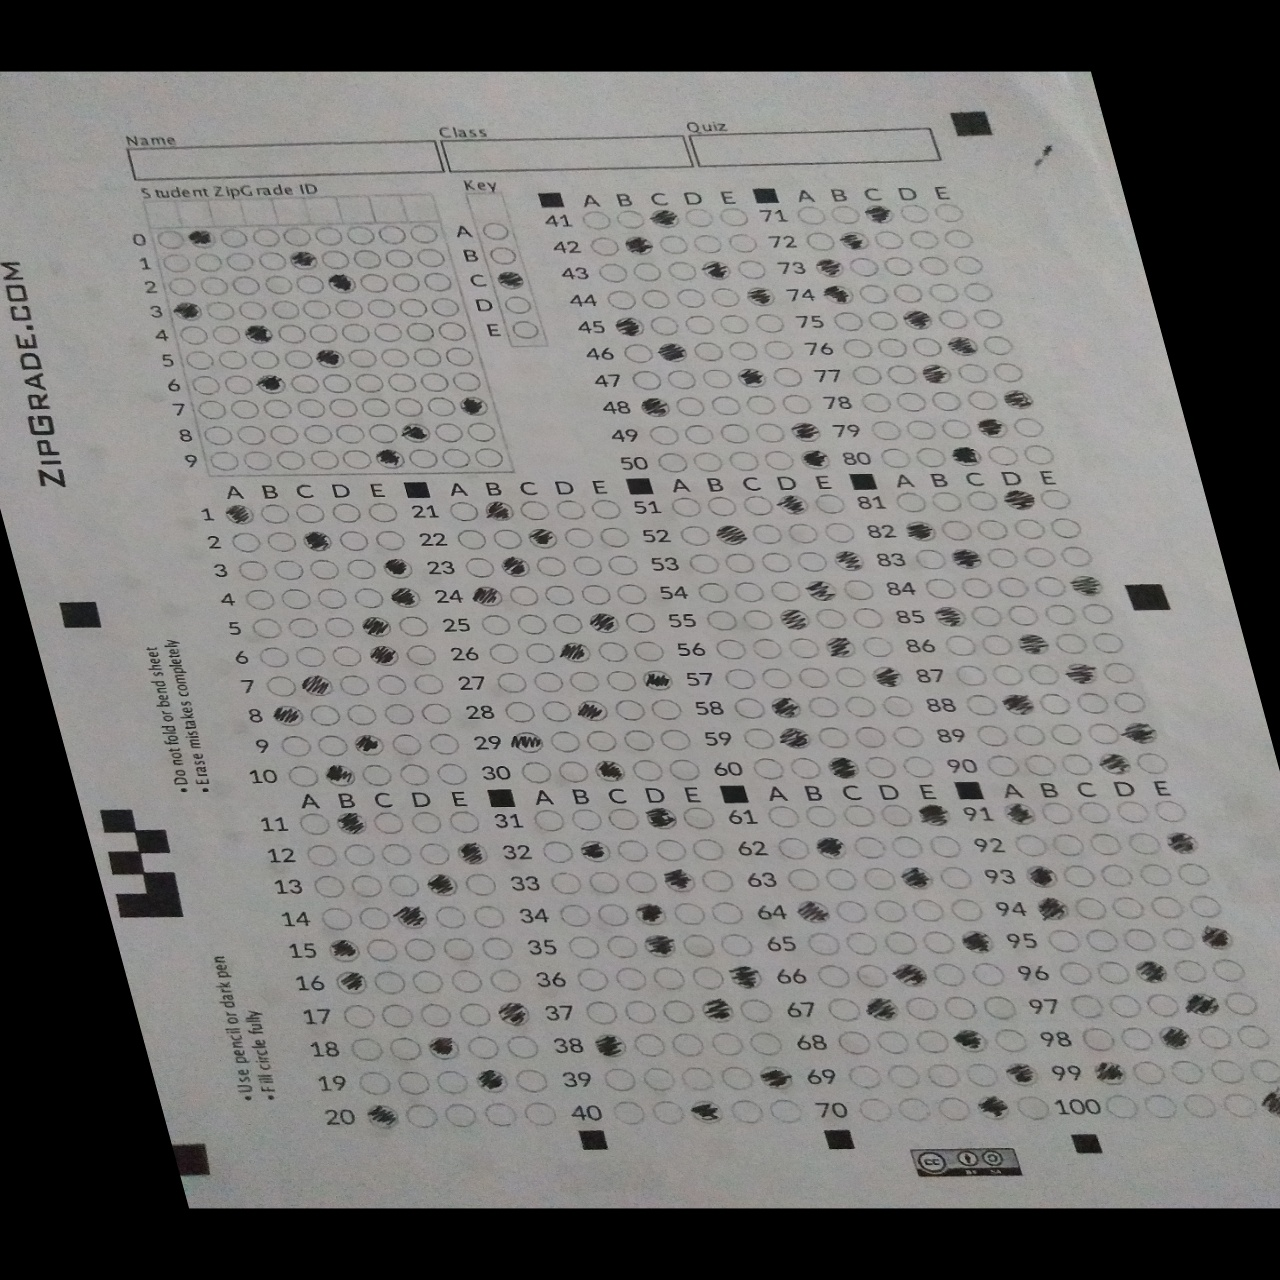not-c: (297, 842, 343, 867), (704, 1032, 751, 1057), (796, 931, 843, 956), (350, 906, 399, 931), (334, 1001, 382, 1026), (697, 871, 745, 896), (765, 838, 813, 863), (799, 806, 847, 831), (847, 964, 896, 988), (914, 576, 960, 601), (976, 754, 1022, 779), (334, 842, 380, 867), (734, 998, 779, 1023), (714, 1065, 760, 1091), (670, 903, 716, 928), (821, 998, 866, 1023), (349, 1070, 396, 1095), (343, 1036, 390, 1061), (425, 905, 472, 930), (644, 1099, 690, 1124), (765, 1098, 812, 1123), (685, 968, 731, 993), (676, 935, 723, 960), (651, 839, 697, 864), (678, 805, 724, 830), (838, 1063, 885, 1088), (825, 1029, 872, 1054), (778, 869, 825, 893), (907, 1028, 954, 1053), (837, 803, 884, 828), (879, 932, 926, 956), (821, 866, 867, 891), (829, 899, 876, 924), (835, 933, 881, 958), (867, 1030, 914, 1055), (361, 938, 406, 964), (551, 903, 595, 928), (527, 806, 572, 832), (1157, 926, 1201, 952), (1110, 801, 1155, 826), (1149, 801, 1193, 826), (954, 693, 1000, 717), (968, 723, 1014, 748), (1054, 753, 1099, 777), (1078, 721, 1124, 745), (313, 906, 359, 931), (293, 811, 339, 836), (413, 842, 458, 866), (400, 937, 445, 961), (380, 874, 425, 899), (373, 842, 418, 866), (366, 810, 411, 835), (508, 1068, 553, 1092), (444, 810, 490, 835), (743, 1032, 789, 1056), (723, 1099, 769, 1124), (716, 934, 762, 959), (709, 901, 755, 926), (692, 838, 737, 863), (877, 1063, 922, 1088), (809, 964, 855, 988), (763, 805, 809, 830), (927, 961, 973, 986), (938, 994, 983, 1019), (961, 1062, 1007, 1087), (900, 996, 946, 1021), (870, 900, 915, 925), (847, 835, 893, 859), (1167, 958, 1211, 983), (1192, 1022, 1235, 1048), (1203, 1058, 1246, 1084), (1107, 896, 1150, 921), (1133, 862, 1177, 887), (1173, 863, 1217, 888), (1223, 990, 1266, 1016), (1067, 692, 1114, 715), (411, 1003, 458, 1027), (921, 1064, 968, 1088), (935, 633, 980, 658), (1016, 753, 1061, 777), (440, 937, 484, 961), (597, 1068, 641, 1092), (606, 966, 651, 990), (647, 966, 692, 990), (653, 1000, 697, 1024), (666, 1033, 710, 1057), (636, 1065, 681, 1090), (628, 1033, 673, 1057), (565, 808, 610, 832), (604, 806, 648, 831), (1231, 1024, 1275, 1049), (1183, 896, 1227, 920), (1208, 958, 1251, 983), (904, 549, 949, 572), (944, 662, 989, 686), (305, 874, 350, 898), (399, 1105, 444, 1129), (366, 969, 411, 993), (459, 1036, 505, 1060), (428, 1071, 474, 1095), (406, 971, 451, 994), (570, 968, 615, 992), (607, 1103, 653, 1126), (499, 1035, 545, 1058), (485, 969, 531, 993), (475, 937, 520, 960), (618, 1001, 663, 1024), (536, 839, 581, 863), (857, 866, 903, 890), (404, 810, 448, 835), (676, 1067, 720, 1091), (1096, 865, 1139, 890), (1165, 1061, 1208, 1085), (1141, 993, 1184, 1017), (1146, 896, 1190, 920), (885, 491, 930, 515), (708, 636, 753, 660), (394, 763, 438, 787), (340, 556, 384, 579), (563, 668, 607, 692), (515, 640, 559, 663), (508, 612, 552, 635), (568, 556, 613, 579), (342, 874, 387, 898), (613, 840, 658, 864), (392, 1073, 436, 1096), (383, 1036, 428, 1060), (377, 1002, 422, 1026), (445, 969, 490, 993), (449, 1003, 493, 1027), (437, 1104, 482, 1128), (559, 937, 604, 960), (578, 1001, 622, 1024), (519, 1103, 564, 1126), (457, 873, 502, 897), (621, 872, 666, 896), (598, 935, 642, 959), (590, 903, 634, 926), (580, 873, 625, 897), (545, 874, 590, 898), (1123, 930, 1167, 953), (1122, 835, 1166, 858), (546, 612, 588, 636), (781, 636, 824, 660), (702, 496, 745, 519), (784, 755, 828, 778), (717, 667, 761, 690), (784, 523, 828, 546), (860, 756, 904, 779), (332, 527, 375, 551), (368, 501, 411, 524), (327, 645, 370, 668), (290, 501, 333, 524), (237, 588, 280, 612), (513, 761, 557, 784), (607, 556, 651, 579), (559, 525, 602, 549), (617, 727, 660, 750), (540, 584, 584, 607), (530, 556, 573, 579), (479, 1103, 523, 1126), (888, 835, 930, 859), (922, 836, 964, 860), (1220, 1094, 1261, 1118), (932, 1096, 973, 1121), (1179, 1094, 1220, 1118), (1141, 1095, 1182, 1119), (1099, 1095, 1141, 1119), (1012, 1095, 1053, 1119), (1037, 802, 1078, 826), (1074, 802, 1115, 826), (1116, 1026, 1157, 1050), (1070, 897, 1111, 921), (1040, 602, 1084, 625), (985, 662, 1029, 685), (953, 576, 998, 598), (971, 519, 1015, 542), (747, 524, 791, 546), (719, 552, 763, 574), (733, 726, 777, 748), (680, 553, 724, 576), (790, 551, 835, 573), (858, 636, 903, 659), (304, 703, 348, 726), (279, 764, 324, 787), (629, 641, 674, 663), (597, 526, 641, 549), (653, 728, 697, 750), (724, 699, 767, 722), (662, 493, 704, 517), (840, 695, 883, 719), (900, 755, 942, 778), (356, 763, 399, 787), (240, 617, 282, 640), (946, 898, 986, 922), (1080, 1027, 1119, 1051), (1067, 993, 1107, 1017), (1131, 1061, 1171, 1085), (470, 904, 508, 930), (818, 524, 862, 546), (983, 546, 1027, 568), (1005, 604, 1048, 626), (1049, 629, 1092, 652), (1046, 723, 1089, 745), (966, 604, 1009, 626), (934, 519, 978, 542), (812, 726, 856, 748), (794, 666, 837, 688), (754, 667, 797, 689), (692, 580, 735, 602), (830, 666, 873, 688), (877, 694, 920, 716), (850, 726, 893, 748), (424, 734, 468, 756), (350, 587, 394, 610), (328, 503, 372, 525), (343, 704, 387, 727), (312, 588, 355, 611), (306, 558, 349, 580), (275, 588, 319, 611), (271, 559, 314, 581), (251, 505, 294, 527), (282, 619, 326, 641), (312, 736, 355, 758), (274, 736, 318, 758), (252, 647, 295, 669), (222, 532, 265, 554), (552, 761, 595, 783), (542, 730, 585, 753), (503, 585, 546, 607), (584, 499, 627, 522), (497, 699, 540, 721), (488, 672, 531, 694), (452, 556, 496, 578), (440, 501, 483, 523), (486, 527, 530, 550), (621, 612, 665, 634), (577, 586, 620, 608), (668, 761, 712, 783), (627, 760, 670, 782), (908, 899, 949, 922), (919, 931, 960, 954), (935, 866, 976, 890), (894, 1098, 935, 1122), (852, 1097, 893, 1121), (1043, 930, 1084, 953), (1104, 994, 1145, 1017), (1092, 961, 1133, 985), (1083, 930, 1124, 953), (1057, 864, 1098, 887), (847, 607, 890, 629), (840, 580, 883, 602), (808, 493, 850, 516), (1024, 663, 1067, 686), (1034, 692, 1076, 714), (1008, 724, 1050, 747), (975, 634, 1017, 656), (990, 576, 1035, 597), (810, 608, 855, 629), (764, 580, 806, 602), (757, 550, 799, 572), (738, 493, 781, 516), (737, 610, 779, 632), (745, 636, 788, 659), (744, 757, 787, 779), (888, 724, 931, 747), (372, 674, 414, 696), (388, 733, 430, 755), (433, 763, 475, 785), (418, 702, 461, 724), (411, 674, 454, 696), (372, 531, 414, 553), (334, 673, 376, 695), (260, 532, 302, 554), (290, 646, 332, 668), (256, 675, 298, 697), (581, 730, 624, 753), (535, 699, 577, 721), (551, 501, 595, 522), (517, 501, 559, 523), (451, 529, 493, 551), (602, 670, 645, 693), (610, 697, 652, 720), (967, 961, 1007, 985), (992, 1029, 1032, 1053), (980, 996, 1020, 1020), (1056, 961, 1096, 985), (1012, 833, 1051, 857), (1085, 833, 1125, 857), (804, 697, 847, 719), (727, 583, 770, 604), (321, 615, 365, 636), (233, 561, 277, 583), (380, 704, 423, 726), (529, 670, 572, 692), (471, 615, 515, 636), (592, 642, 635, 663), (651, 697, 694, 719), (613, 583, 656, 604), (479, 644, 520, 666), (877, 805, 918, 828), (1047, 835, 1088, 857), (403, 644, 445, 665), (392, 615, 434, 636), (697, 608, 738, 629), (1244, 1057, 1280, 1081), (715, 423, 753, 445), (505, 320, 543, 342), (679, 524, 716, 546), (309, 225, 348, 246), (373, 224, 411, 245), (258, 274, 297, 295), (277, 349, 315, 370), (390, 397, 429, 418), (338, 448, 376, 469), (305, 448, 343, 469), (297, 423, 335, 444), (433, 321, 471, 342), (414, 248, 452, 270), (663, 260, 702, 281), (644, 424, 682, 445), (618, 342, 656, 363), (856, 285, 894, 306), (910, 447, 948, 468), (876, 447, 914, 468), (847, 365, 886, 386), (830, 312, 869, 333), (915, 256, 954, 277), (155, 254, 195, 274), (173, 325, 213, 345), (406, 224, 443, 245), (418, 271, 456, 292), (430, 422, 468, 443), (195, 400, 232, 421), (186, 376, 224, 397), (226, 275, 264, 297), (193, 275, 231, 297), (226, 400, 264, 421), (219, 375, 257, 396), (315, 248, 353, 270), (403, 448, 441, 469), (383, 374, 421, 395), (358, 397, 395, 418), (331, 422, 368, 443), (286, 373, 324, 394), (429, 297, 467, 318), (379, 248, 416, 270), (471, 447, 509, 468), (465, 421, 503, 442), (436, 447, 474, 468), (751, 313, 789, 334), (751, 422, 789, 443), (769, 367, 806, 388), (655, 234, 693, 256), (613, 209, 651, 230), (647, 316, 685, 338), (681, 424, 719, 445), (654, 452, 692, 474), (497, 294, 535, 315), (862, 312, 899, 333), (846, 257, 884, 278), (799, 231, 837, 252), (717, 207, 755, 229), (683, 207, 721, 229), (907, 230, 945, 251), (881, 257, 919, 278), (964, 389, 1001, 410), (1012, 416, 1049, 437), (980, 336, 1017, 358), (949, 253, 987, 274), (1010, 518, 1048, 539), (1103, 663, 1141, 685), (1046, 518, 1083, 539), (278, 226, 316, 246), (247, 227, 286, 247), (189, 253, 227, 273), (215, 350, 253, 370), (190, 253, 229, 273), (159, 277, 198, 297), (234, 301, 273, 321), (305, 324, 343, 343), (299, 300, 338, 320), (448, 372, 486, 392), (343, 349, 382, 369), (734, 260, 772, 280), (761, 341, 799, 361), (761, 451, 799, 471), (707, 396, 745, 416), (697, 369, 736, 389), (672, 290, 710, 309), (625, 263, 663, 282), (636, 290, 675, 309), (670, 396, 709, 416), (476, 222, 515, 241), (880, 365, 919, 384), (925, 282, 964, 302), (934, 309, 973, 329), (897, 203, 935, 223), (1082, 602, 1121, 622), (1020, 549, 1058, 568), (1135, 754, 1173, 774), (1033, 577, 1071, 597), (342, 224, 379, 245), (424, 397, 461, 418), (365, 424, 401, 445), (927, 491, 964, 512), (907, 336, 944, 358), (927, 389, 964, 410), (961, 281, 998, 302), (1111, 693, 1148, 714), (292, 274, 328, 295), (392, 271, 425, 293), (215, 229, 252, 248), (151, 229, 189, 248), (205, 450, 243, 470), (207, 324, 245, 343), (203, 301, 240, 321), (252, 250, 290, 270), (220, 252, 258, 272), (181, 350, 218, 370), (266, 300, 304, 320), (245, 350, 282, 370), (273, 449, 311, 469), (259, 399, 297, 418), (239, 452, 277, 472), (213, 350, 251, 370), (339, 325, 376, 345), (363, 299, 401, 319), (355, 274, 393, 294), (350, 250, 388, 270), (331, 300, 368, 320), (274, 324, 312, 343), (438, 346, 476, 366), (375, 348, 413, 368), (350, 373, 388, 393), (326, 396, 363, 416), (316, 373, 354, 393), (293, 397, 331, 417), (403, 322, 441, 342), (395, 298, 433, 318), (722, 341, 760, 361), (741, 394, 778, 414), (689, 342, 727, 362), (663, 370, 701, 390), (690, 451, 728, 471), (602, 290, 640, 309), (592, 263, 629, 282), (579, 210, 617, 230), (903, 421, 940, 441), (892, 392, 930, 411), (872, 338, 910, 358), (866, 421, 904, 441), (857, 393, 894, 413), (795, 205, 832, 225), (688, 234, 726, 254), (726, 234, 763, 254), (890, 284, 927, 304), (956, 363, 994, 383), (935, 418, 973, 438), (982, 445, 1020, 465), (1020, 444, 1057, 464), (990, 362, 1028, 382), (930, 202, 967, 222), (962, 491, 1000, 511), (1087, 632, 1124, 652), (1056, 547, 1094, 567), (200, 425, 237, 445), (266, 425, 302, 445), (233, 425, 270, 445), (417, 373, 454, 393), (411, 346, 448, 366), (370, 324, 407, 343), (716, 315, 753, 335), (778, 394, 815, 414), (723, 449, 760, 469), (682, 315, 719, 335), (628, 370, 665, 390), (586, 236, 622, 256), (484, 246, 520, 266), (840, 338, 877, 358), (971, 308, 1007, 328), (941, 229, 978, 248), (1039, 490, 1075, 510), (826, 205, 863, 225), (872, 229, 908, 248), (709, 287, 741, 307)
taken-c: (806, 835, 855, 860), (658, 870, 704, 896), (722, 965, 769, 990), (1191, 924, 1238, 949), (1179, 992, 1226, 1017), (1087, 1058, 1133, 1084), (1092, 751, 1141, 776), (449, 840, 495, 866), (1029, 897, 1075, 922), (971, 1095, 1016, 1121), (294, 672, 340, 697), (1010, 629, 1056, 655), (996, 692, 1042, 717), (789, 899, 836, 924), (359, 1103, 406, 1128), (467, 1068, 513, 1092), (418, 1035, 465, 1060), (998, 802, 1044, 826), (910, 803, 956, 828), (1020, 864, 1067, 888), (1129, 959, 1176, 983), (952, 930, 999, 954), (946, 1028, 993, 1053), (999, 1062, 1046, 1087), (857, 996, 904, 1021), (581, 612, 628, 636), (265, 703, 311, 728), (347, 731, 393, 756), (693, 996, 738, 1021), (586, 1033, 632, 1057), (634, 932, 680, 956), (626, 901, 672, 926), (327, 969, 373, 994), (322, 937, 368, 961), (418, 873, 464, 898), (572, 837, 618, 862), (327, 810, 373, 835), (1151, 1024, 1197, 1049), (888, 962, 934, 987), (683, 1099, 729, 1124), (373, 556, 418, 580), (383, 585, 429, 610), (863, 663, 908, 688), (1058, 661, 1104, 686), (1159, 829, 1205, 853), (634, 804, 681, 828), (489, 1001, 536, 1024), (891, 866, 938, 890), (762, 696, 806, 721), (927, 605, 972, 629), (1116, 720, 1160, 744), (587, 757, 633, 781), (771, 724, 817, 748), (567, 696, 613, 720), (503, 729, 549, 753), (823, 756, 869, 779), (389, 906, 435, 930), (750, 1065, 796, 1089), (316, 763, 361, 787), (553, 640, 598, 663), (1063, 573, 1108, 597), (816, 636, 863, 659), (998, 488, 1042, 511), (942, 443, 986, 467), (828, 549, 871, 572), (831, 230, 874, 253), (467, 584, 508, 608), (897, 519, 941, 542), (635, 668, 678, 692), (710, 524, 753, 547), (896, 307, 938, 331), (491, 554, 535, 577), (798, 580, 842, 602), (771, 607, 815, 629), (478, 501, 522, 523), (215, 503, 258, 525), (806, 256, 850, 278), (815, 284, 858, 306), (995, 388, 1039, 410), (694, 258, 737, 280), (855, 203, 898, 225), (771, 493, 813, 516), (520, 526, 563, 549), (945, 549, 989, 570), (295, 530, 338, 552), (941, 335, 983, 358), (971, 417, 1013, 440), (165, 301, 207, 324), (737, 285, 779, 307), (785, 422, 825, 445), (617, 234, 660, 256), (362, 644, 403, 666), (915, 363, 958, 384), (281, 248, 324, 270), (607, 316, 649, 338), (794, 447, 833, 469), (250, 373, 290, 395), (309, 348, 349, 370), (733, 366, 772, 388), (644, 207, 683, 230), (395, 422, 433, 445), (651, 342, 692, 363), (320, 273, 361, 294), (635, 397, 674, 420), (356, 615, 396, 636), (491, 271, 531, 292), (451, 396, 491, 416), (370, 448, 408, 469), (239, 324, 277, 345), (182, 229, 218, 246), (1257, 1092, 1280, 1117)
